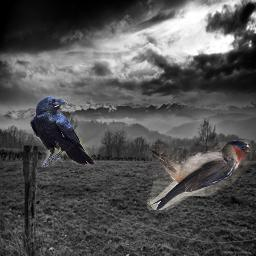Crow: (30, 96, 96, 167)
Swallow: (147, 140, 256, 210)
